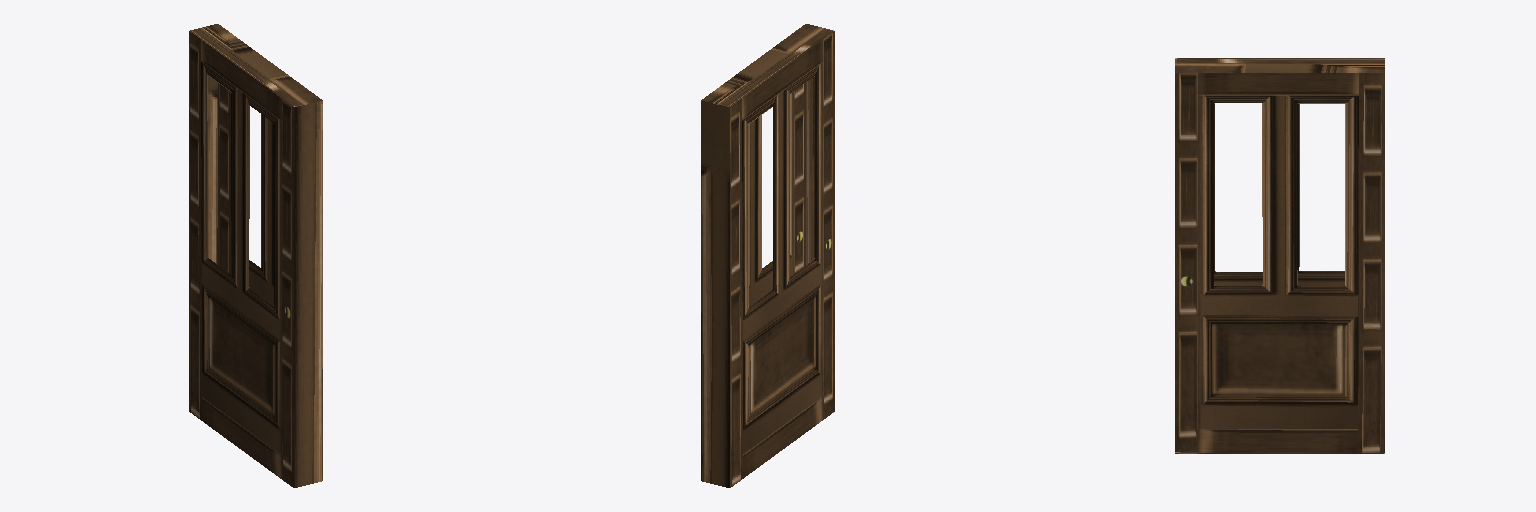
The picture shows the model from 3 angles: view 1: azimuth 30°, elevation 25°; view 2: azimuth 150°, elevation 25°; view 3: azimuth 270°, elevation 25°; orthographic projection.
Size of the model in its own units: 0.08 by 1 by 0.5.
1 materials, 1 textured.